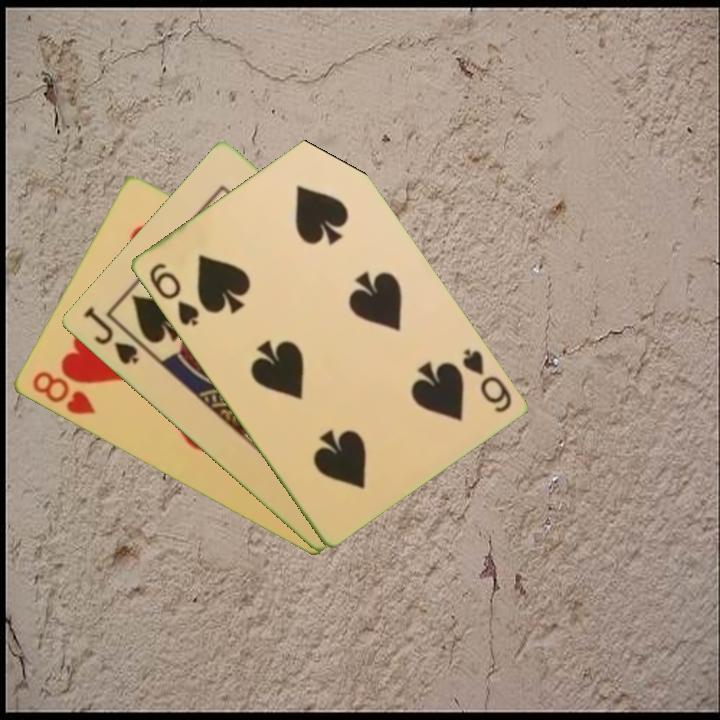6s: (145, 259, 202, 330), (458, 345, 514, 416)
8h: (28, 367, 98, 418)
Js: (79, 303, 141, 368)
